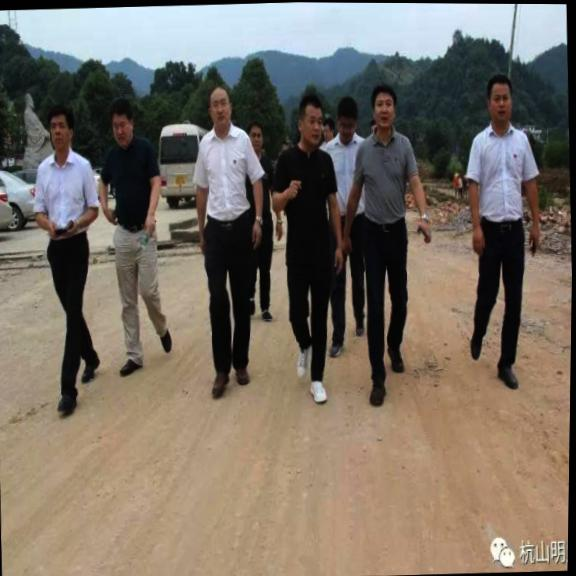no_safety_vest: (461, 120, 543, 234), (349, 124, 424, 233), (270, 141, 340, 250), (190, 126, 263, 230), (27, 148, 102, 245), (97, 135, 166, 234), (321, 132, 372, 222), (241, 147, 281, 228)
